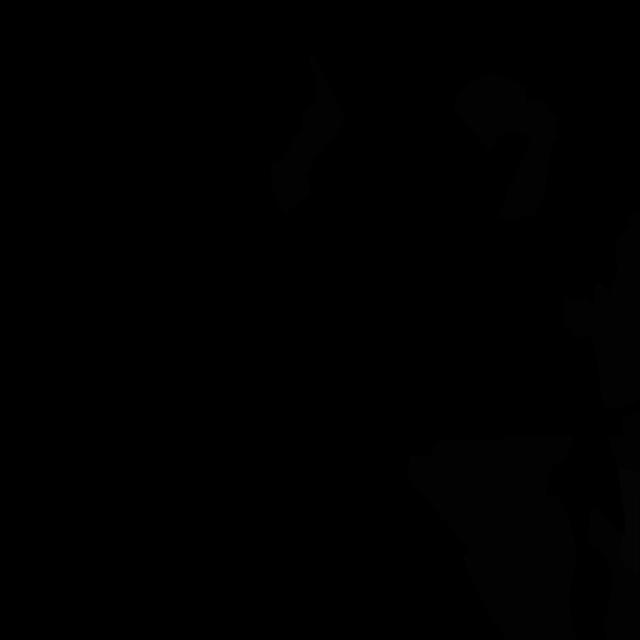cardboard: (408, 435, 577, 640), (454, 73, 558, 219), (270, 54, 346, 214), (563, 212, 640, 339), (586, 507, 640, 640), (574, 314, 640, 408), (608, 412, 640, 471)
soft_plastic: (617, 468, 640, 577)
